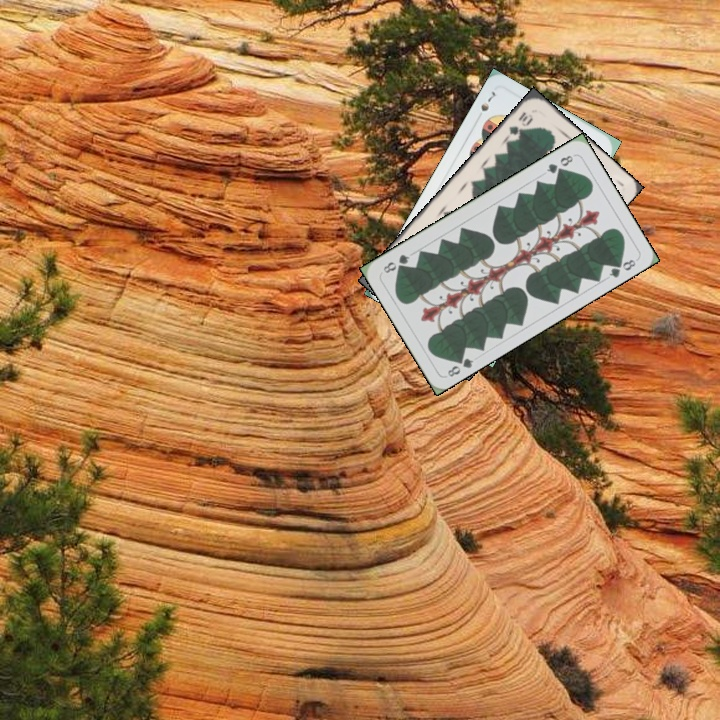G10: (505, 107, 536, 138)
G8: (443, 351, 476, 380), (542, 151, 576, 176)
S7: (472, 87, 498, 123)
